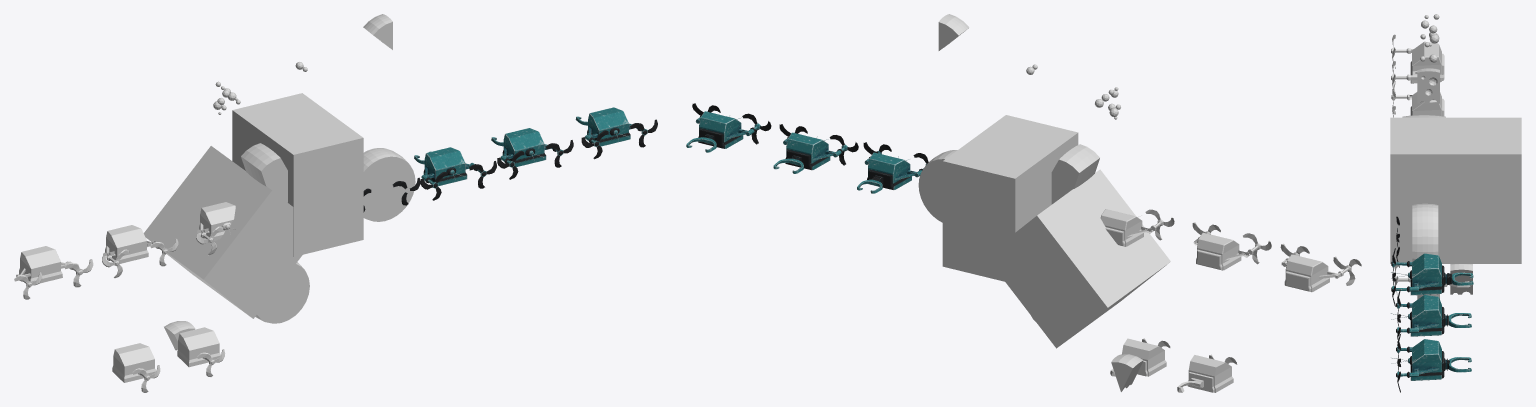
File: TVAnimation.gltf
The picture shows the model from 3 angles, left to right: view 1: azimuth 30°, elevation 25°; view 2: azimuth 150°, elevation 25°; view 3: azimuth 270°, elevation 25°; orthographic projection. The views are drawn at different scales.
Visible parts, largest first — view 1: Cube.001, Cube, Cylinder, Cylinder.002, Cylinder.001, Cube.019, Cube.028, Cube.023, Cube.064, Cube.075, Cube.035, Cube.003 (+2 smaller); view 2: Cube.001, Cube, Cylinder.001, Cube.028, Cube.019, Cube.023, Cylinder, Cube.035, Cube.003, Cube.064, Cube.007, Cube.075 (+2 smaller); view 3: Cube, Cube.019, Cube.028, Cube.023, Cylinder, Cube.035, Cylinder.007, Cube.003, Cylinder.031, Cube.020.
Boxes of the visible parts, x1=… form: Cube.001: x1=144, y1=146, x2=302, y2=318; Cube: x1=232, y1=93, x2=363, y2=256; Cylinder: x1=363, y1=148, x2=415, y2=221; Cylinder.002: x1=255, y1=262, x2=309, y2=323; Cylinder.001: x1=241, y1=143, x2=287, y2=202; Cube.019: x1=414, y1=147, x2=486, y2=188; Cube.028: x1=575, y1=107, x2=647, y2=146; Cube.023: x1=500, y1=128, x2=563, y2=167; Cube.064: x1=112, y1=343, x2=156, y2=382; Cube.075: x1=177, y1=327, x2=220, y2=367; Cube.035: x1=19, y1=246, x2=62, y2=283; Cube.003: x1=105, y1=225, x2=148, y2=263; Cube.001: x1=985, y1=169, x2=1170, y2=348; Cube: x1=942, y1=115, x2=1078, y2=281; Cylinder.001: x1=1051, y1=144, x2=1099, y2=204; Cube.028: x1=686, y1=111, x2=760, y2=152; Cube.019: x1=857, y1=151, x2=927, y2=193; Cube.023: x1=783, y1=132, x2=847, y2=170; Cylinder: x1=918, y1=150, x2=957, y2=222; Cube.035: x1=1284, y1=254, x2=1329, y2=292; Cube.003: x1=1196, y1=232, x2=1241, y2=270; Cube.064: x1=1187, y1=355, x2=1233, y2=392; Cube.007: x1=1100, y1=209, x2=1143, y2=246; Cube.075: x1=1122, y1=338, x2=1166, y2=376; Cube: x1=1390, y1=117, x2=1521, y2=263; Cube.019: x1=1391, y1=253, x2=1473, y2=295; Cube.028: x1=1391, y1=339, x2=1471, y2=380; Cube.023: x1=1390, y1=295, x2=1447, y2=336; Cylinder: x1=1412, y1=203, x2=1438, y2=261; Cube.035: x1=1410, y1=41, x2=1444, y2=83; Cylinder.007: x1=1417, y1=68, x2=1439, y2=103; Cube.003: x1=1410, y1=92, x2=1444, y2=116; Cylinder.031: x1=1450, y1=264, x2=1472, y2=294; Cube.020: x1=1447, y1=313, x2=1471, y2=327.
Bounding box in the file's own units: 21.24 × 9.55 × 3.49.
Materials: 12 (12 with a texture image).
